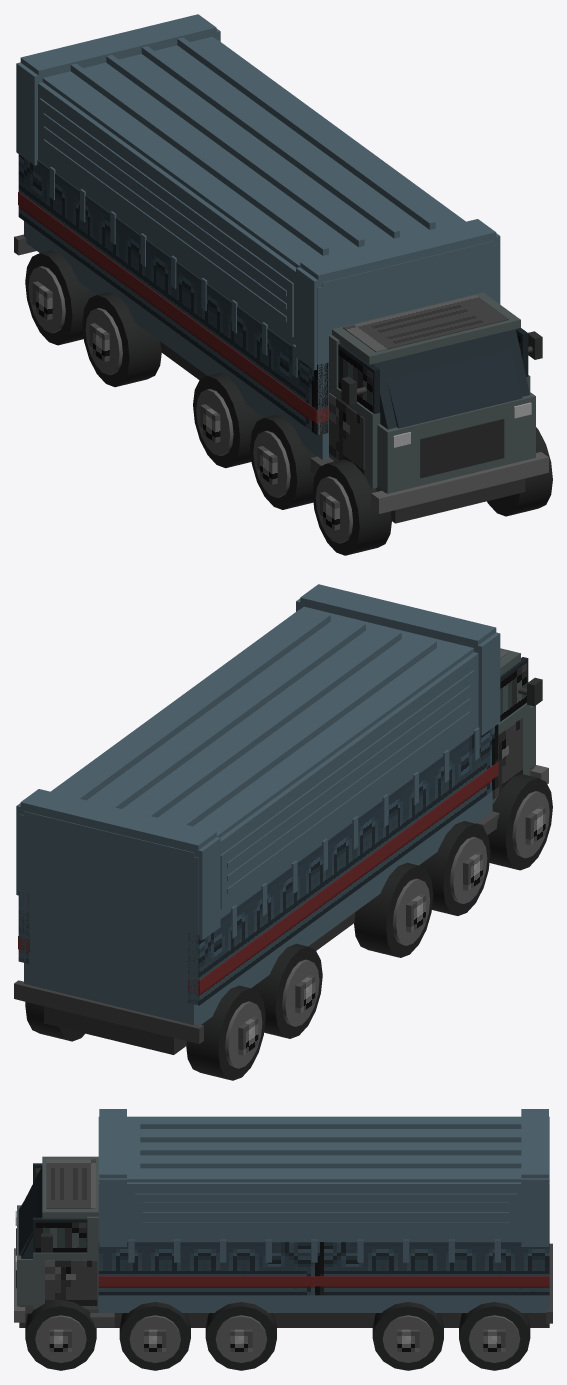
File: CMU3DAU14LargeTruckLongBlueVehicleFinalCloud.glb
3 views of the same model, one above another, from view 1: azimuth 30°, elevation 25°; view 2: azimuth 150°, elevation 25°; view 3: azimuth 270°, elevation 25° (orthographic). The views are drawn at different scales.
Parts seen in each view (by area): view 1: cargo roof sheet, raised upper cargo relief panel -1, reinforced transverse roof band (×2), original corrugated wall detail -1 0, cargo shell side -1, original corrugated wall detail -1 1, closed cargo end bulkhead, sloped windshield glass, cab lower front, physical upper panel flute -1 (×3), cargo floor, original cab roof vent (+31 smaller); view 2: cargo roof sheet, closed cargo end bulkhead, raised upper cargo relief panel -1, reinforced transverse roof band (×2), cargo shell side -1, cargo floor, original corrugated wall detail -1 1, original corrugated wall detail -1 0, physical upper panel flute -1 (×3), lower body red or blue stripe -1, reinforced cargo end upright -1 (×2), rear chassis bumper (+25 smaller); view 3: cargo roof sheet, raised upper cargo relief panel 1, original corrugated wall detail 1 1, original corrugated wall detail 1 0, cargo shell side 1, cargo floor, physical upper panel flute 1 (×3), lower body red or blue stripe 1, reinforced transverse roof band (×2), reinforced cargo end upright 1 (×2), raised longitudinal roof rib 1, raised longitudinal roof rib 2 (+31 smaller).
Boxes of the visible parts, box(x1,y1,x2,y2) form: cargo roof sheet: box(42, 36, 492, 290); raised upper cargo relief panel -1: box(39, 98, 293, 337); reinforced transverse roof band (×2): box(20, 14, 496, 284); original corrugated wall detail -1 0: box(168, 255, 328, 435); cargo shell side -1: box(38, 82, 327, 434); original corrugated wall detail -1 1: box(18, 154, 168, 325); closed cargo end bulkhead: box(322, 245, 492, 435); sloped windshield glass: box(387, 350, 522, 428); cab lower front: box(377, 391, 535, 493); physical upper panel flute -1 (×3): box(43, 113, 286, 322); cargo floor: box(24, 221, 329, 459); original cab roof vent: box(343, 295, 508, 352); cargo roof sheet: box(24, 606, 473, 860); closed cargo end bulkhead: box(24, 814, 193, 1004); raised upper cargo relief panel -1: box(220, 670, 474, 909); reinforced transverse roof band (×2): box(20, 584, 496, 853); cargo shell side -1: box(189, 652, 478, 1005); cargo floor: box(24, 791, 492, 1025); original corrugated wall detail -1 1: box(188, 825, 348, 1005); original corrugated wall detail -1 0: box(348, 724, 498, 895); physical upper panel flute -1 (×3): box(227, 685, 470, 893); lower body red or blue stripe -1: box(188, 762, 498, 993); reinforced cargo end upright -1 (×2): box(186, 632, 500, 940); rear chassis bumper: box(14, 980, 203, 1043); cargo roof sheet: box(98, 1116, 549, 1182); raised upper cargo relief panel 1: box(135, 1193, 517, 1234); original corrugated wall detail 1 1: box(324, 1242, 549, 1295); original corrugated wall detail 1 0: box(98, 1242, 323, 1295); cargo shell side 1: box(98, 1182, 549, 1241); cargo floor: box(98, 1295, 549, 1312); physical upper panel flute 1 (×3): box(143, 1202, 509, 1226); lower body red or blue stripe 1: box(98, 1276, 549, 1286); reinforced transverse roof band (×2): box(99, 1109, 548, 1178); reinforced cargo end upright 1 (×2): box(99, 1178, 548, 1246); raised longitudinal roof rib 1: box(140, 1135, 521, 1142); raised longitudinal roof rib 2: box(140, 1148, 521, 1155).
Bounding box in the file's own units: 1.36 × 1.58 × 4.
21 materials, 6 textured.
